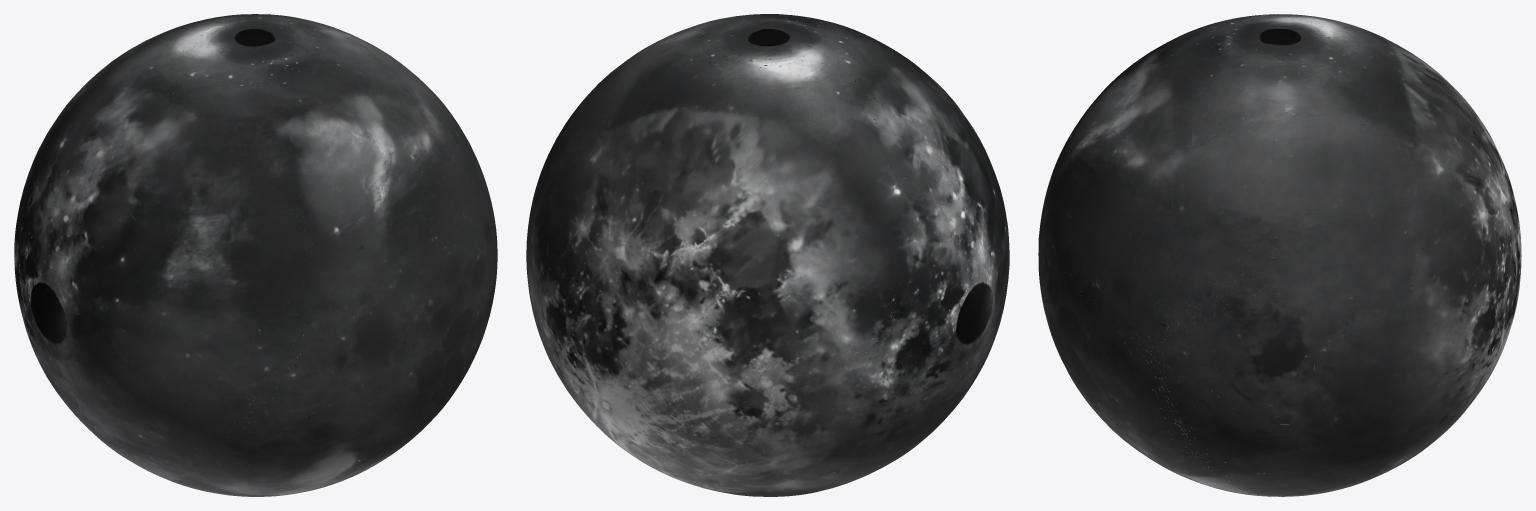
The model's file is Moon(Draco).glb.
3 views of the same model, side by side, from view 1: azimuth 30°, elevation 25°; view 2: azimuth 150°, elevation 25°; view 3: azimuth 270°, elevation 25° (orthographic).
Visible parts, largest first — view 1: Mesh_0; view 2: Mesh_0; view 3: Mesh_0.
Part boxes in pixels (x1,y1,x2,y2): Mesh_0: (14,14,497,496); Mesh_0: (526,14,1009,496); Mesh_0: (1038,14,1521,496).
Bounding box in the file's own units: 2 × 2 × 2.
Materials: 1 (1 with a texture image).
